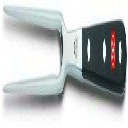fork: (2, 3, 128, 113)
